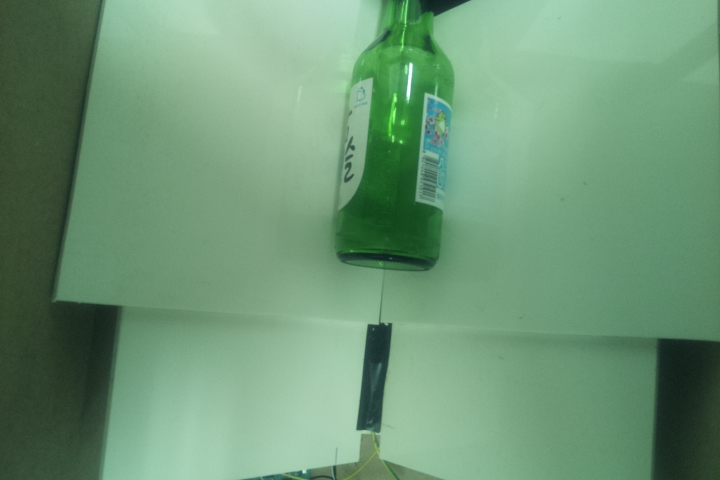soju: (333, 1, 458, 278)
